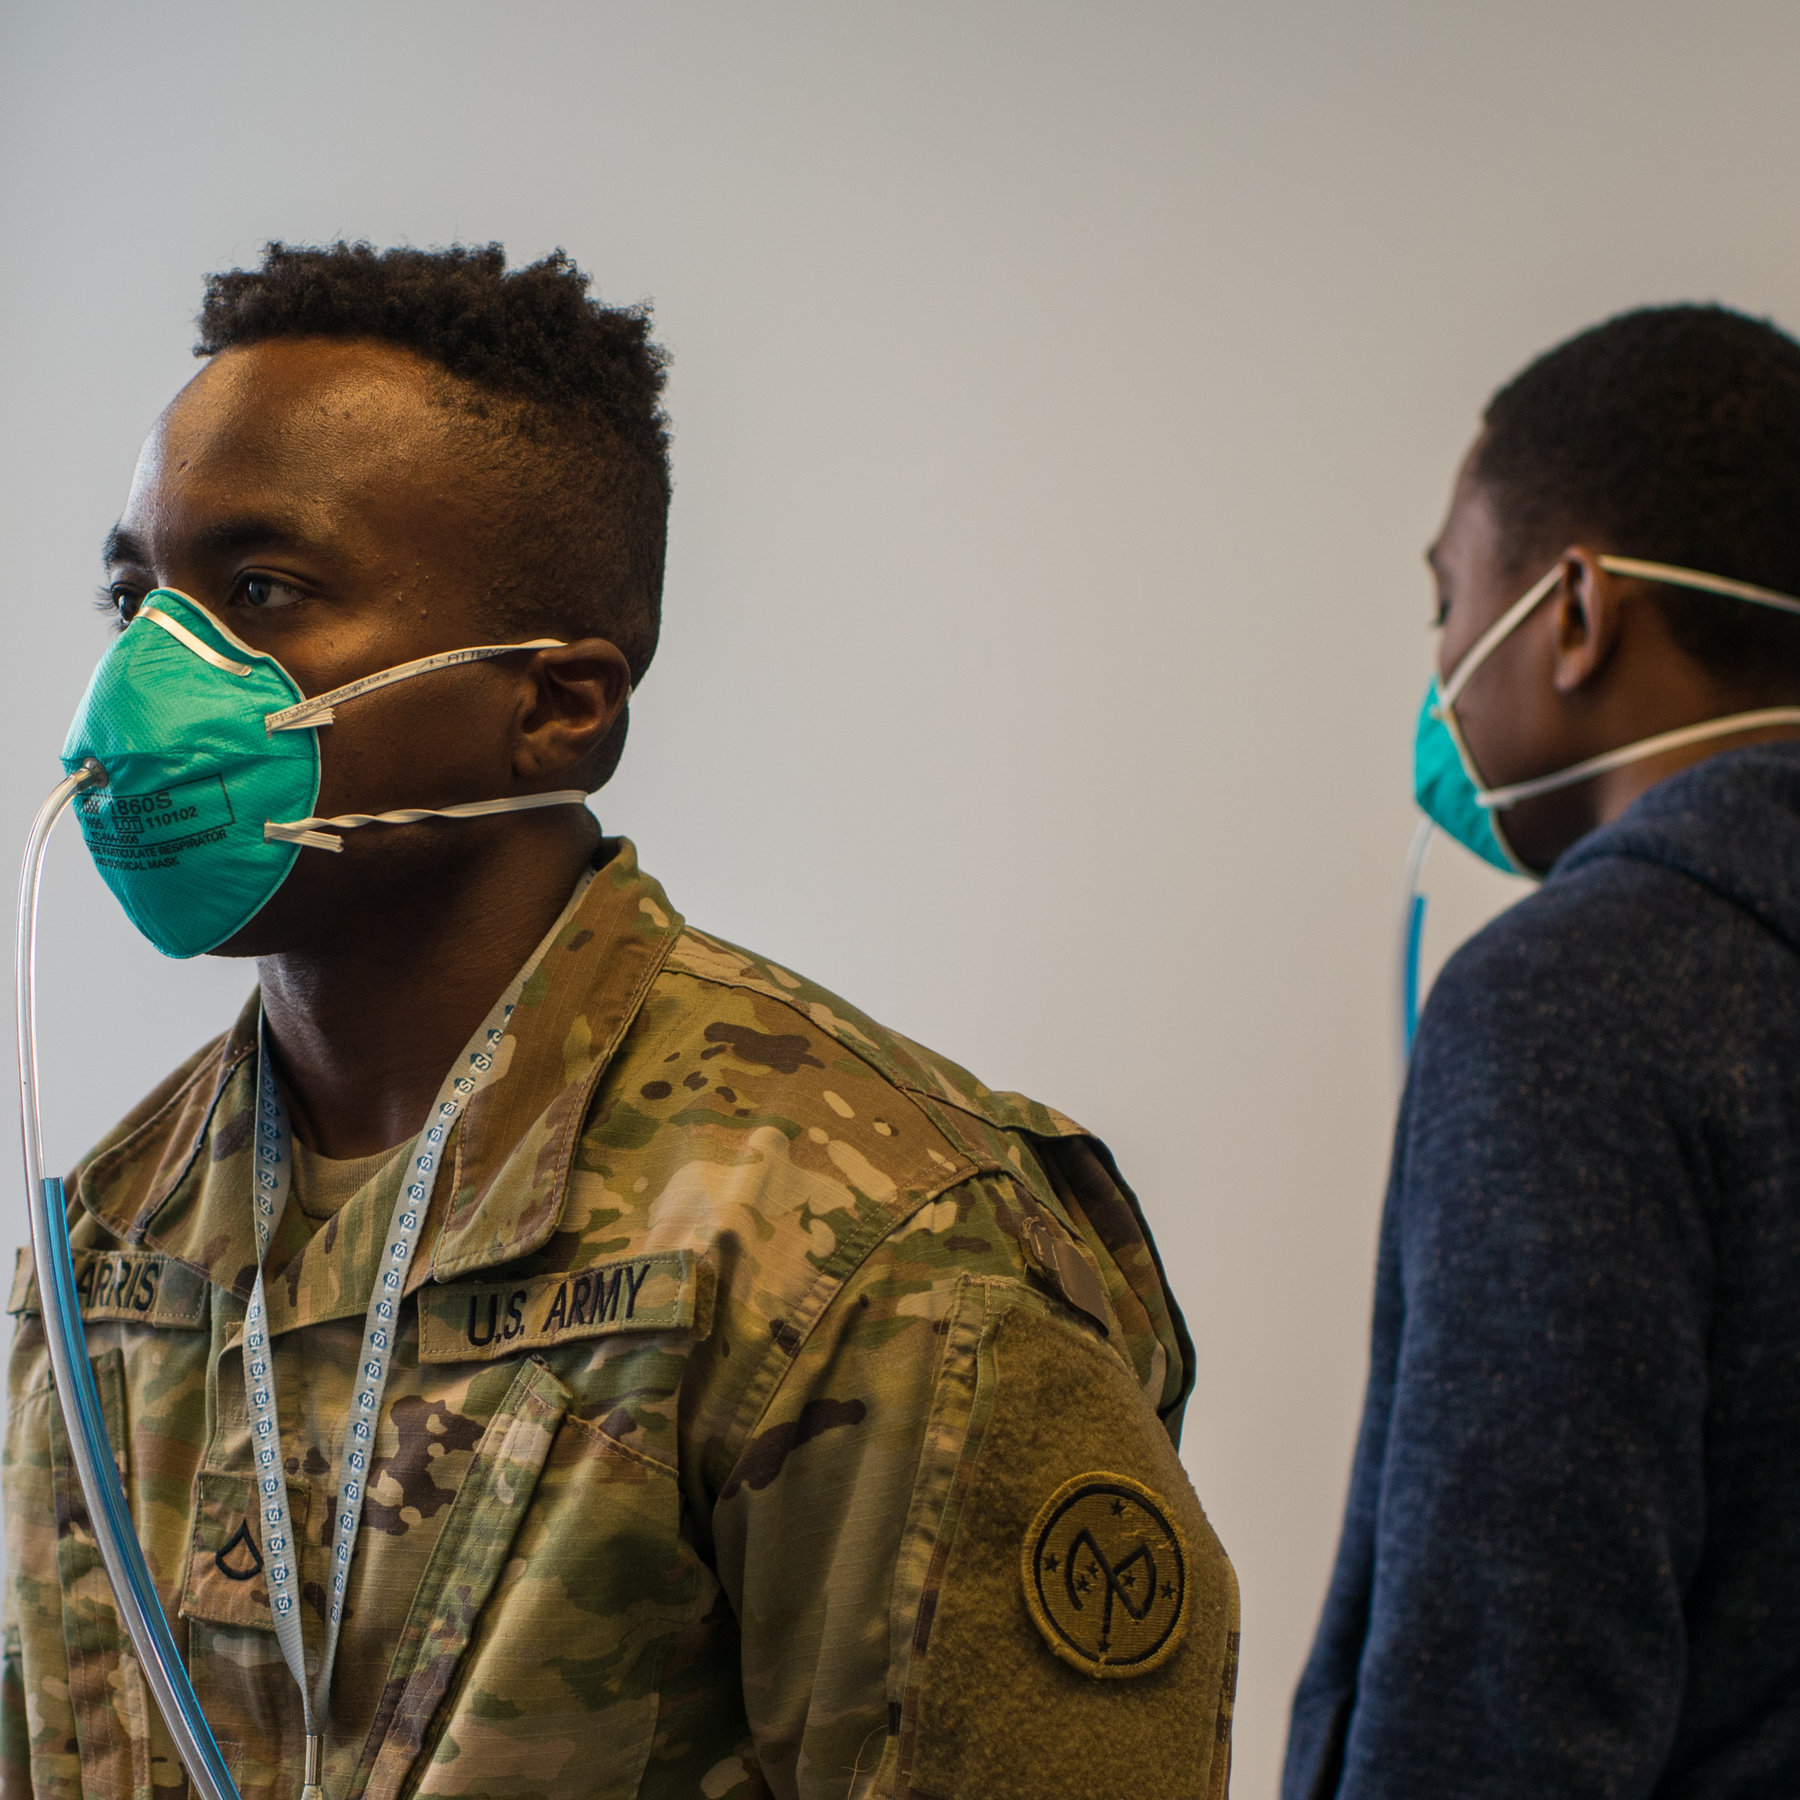n95: (49, 581, 339, 976), (1384, 642, 1549, 887)
